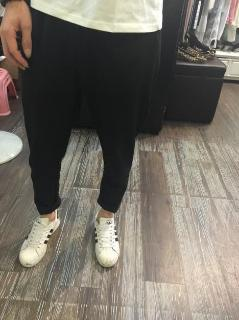short sleeve top: (31, 0, 163, 33)
trousers: (19, 2, 162, 215)
